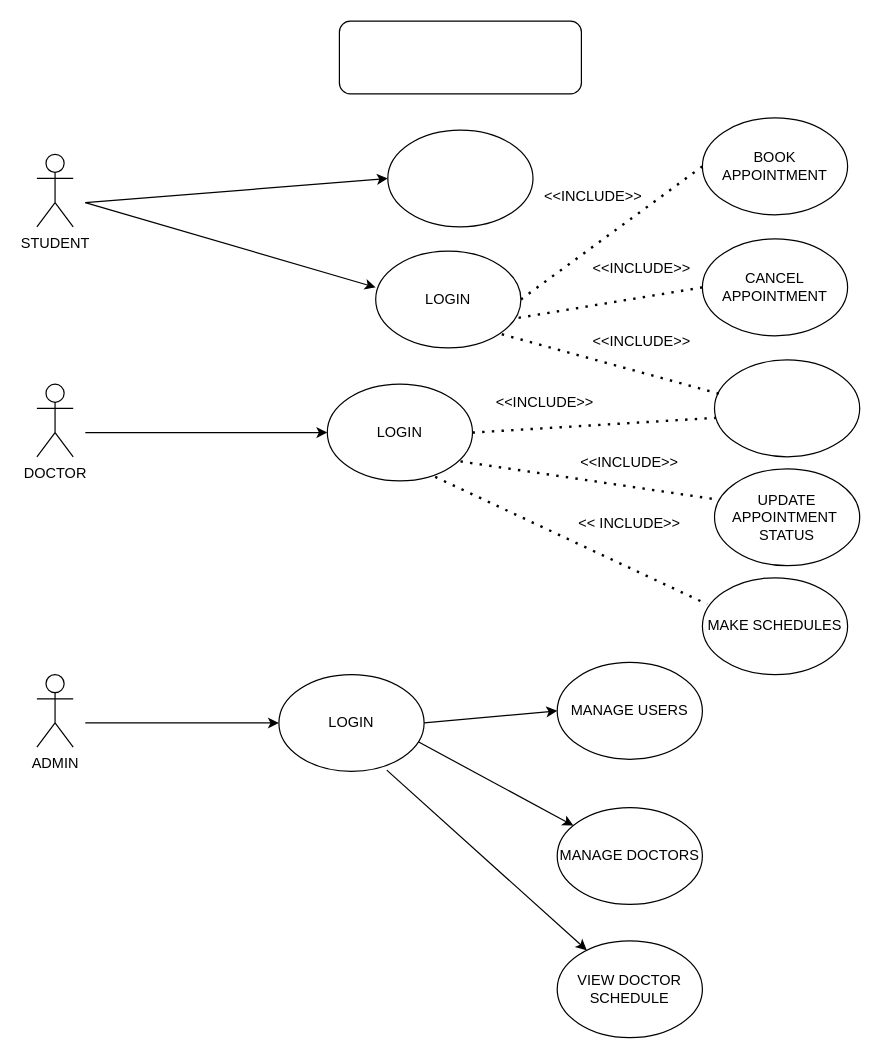
This 881x1059 diagram has some shape labels left out. Here are the shapes that lost their labels. From the top down, the centre of each, then its label:
[459,57]: University Clinic System
[460,178]: REGISTER
[786,408]: VIEW APPOINTMENTS
